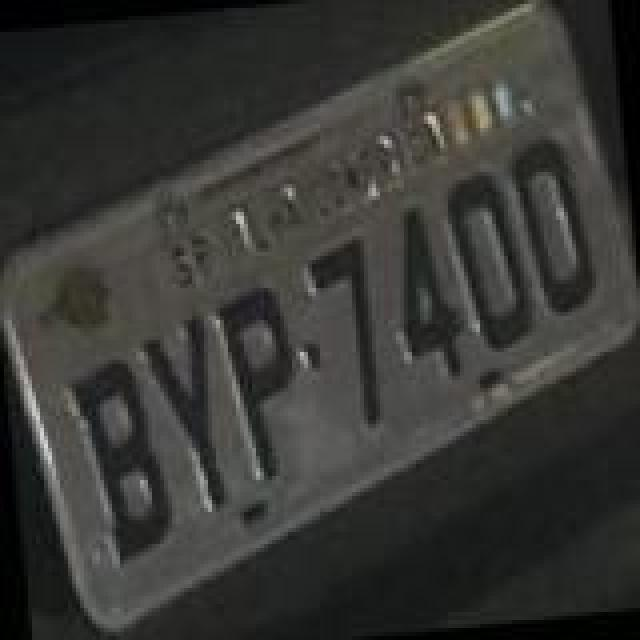4: (392, 202, 472, 390)
7: (302, 234, 386, 438)
B: (62, 352, 178, 576)
O: (440, 168, 536, 360), (504, 130, 600, 318)
P: (206, 282, 306, 486)
Y: (138, 310, 230, 522)
